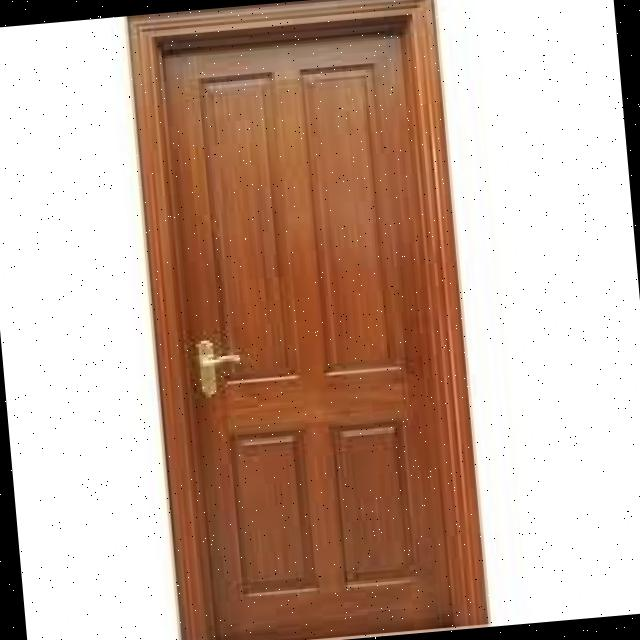Door: (144, 9, 462, 640)
